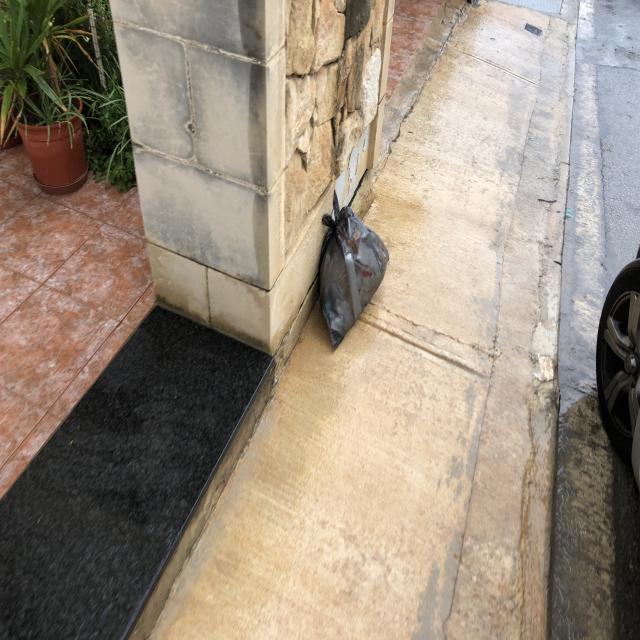Mixed Waste -Black Bag-: (319, 191, 391, 355)
